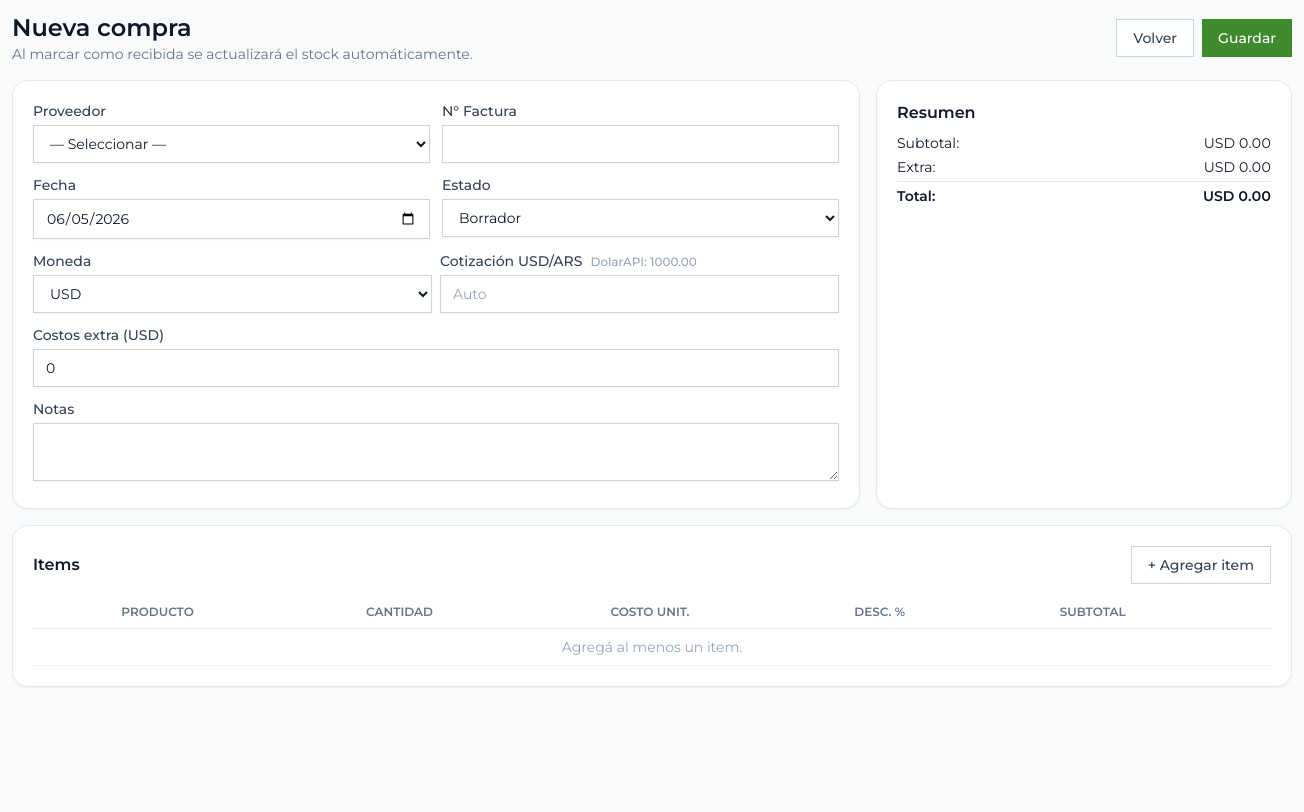
Test: PurchaseFormPage › renders the API error message when the backend rejects the payload
Select "ACME" in the dropdown named "ACME" below "Proveedor": (232, 144) [33,125,430,163]
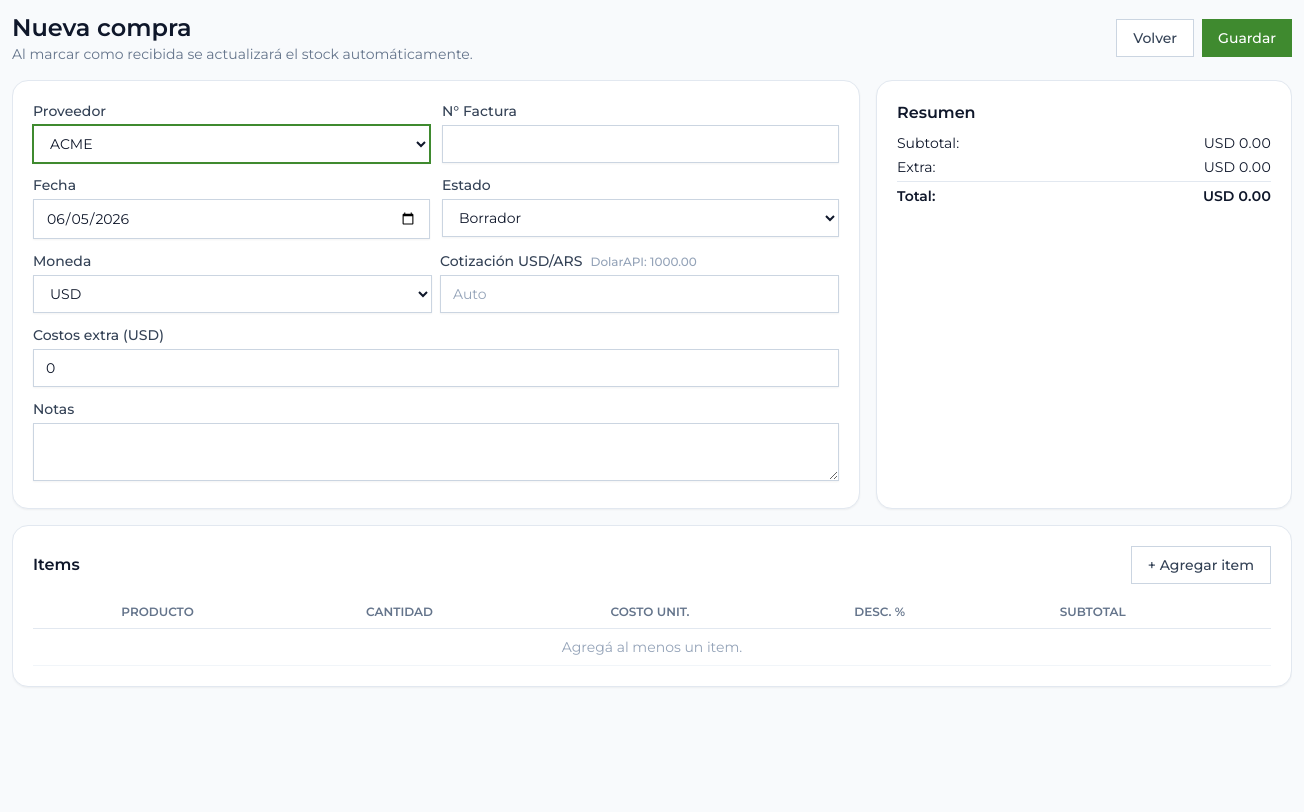
Click the button "+ Agregar item": (1201, 565) [1131,546,1271,584]
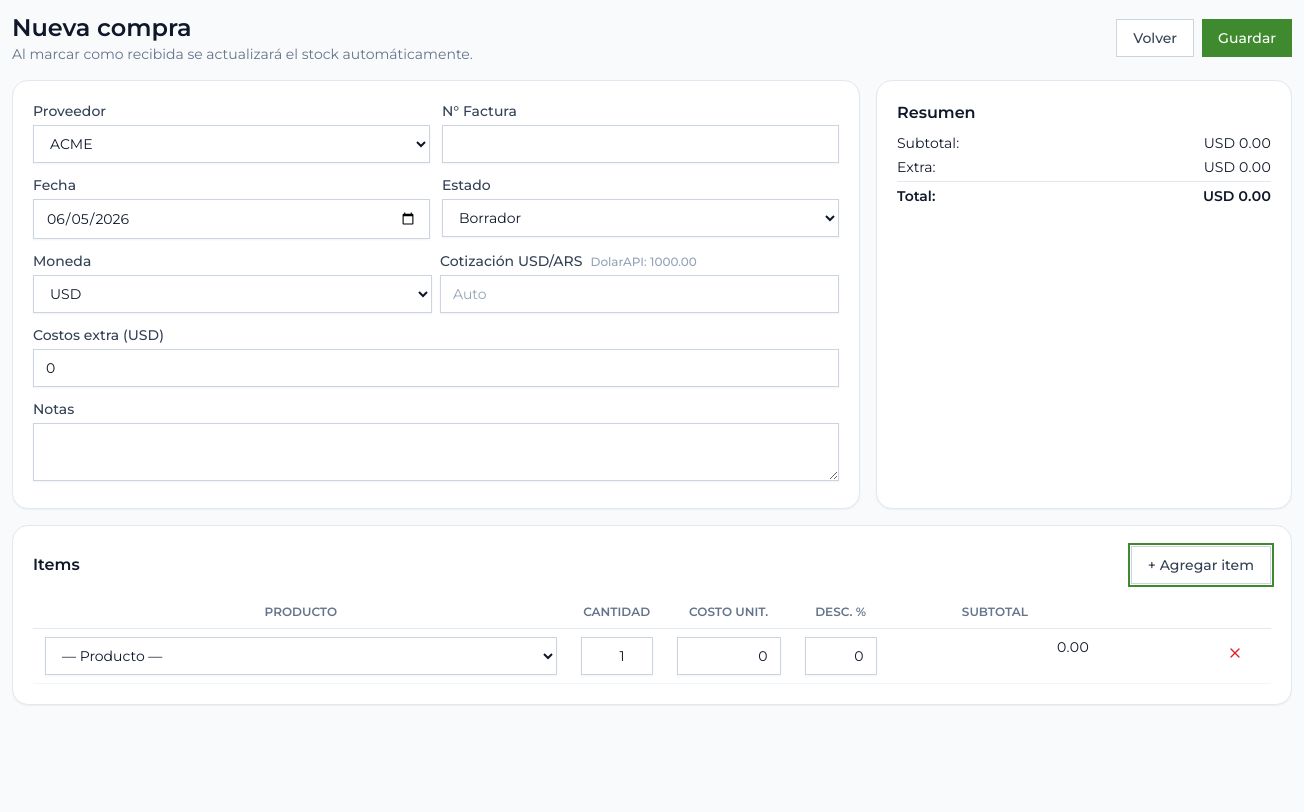
Select "PNL-300 · Panel 300W" in the dropdown named "PNL-300" below "Producto": (301, 656) [45,637,557,675]
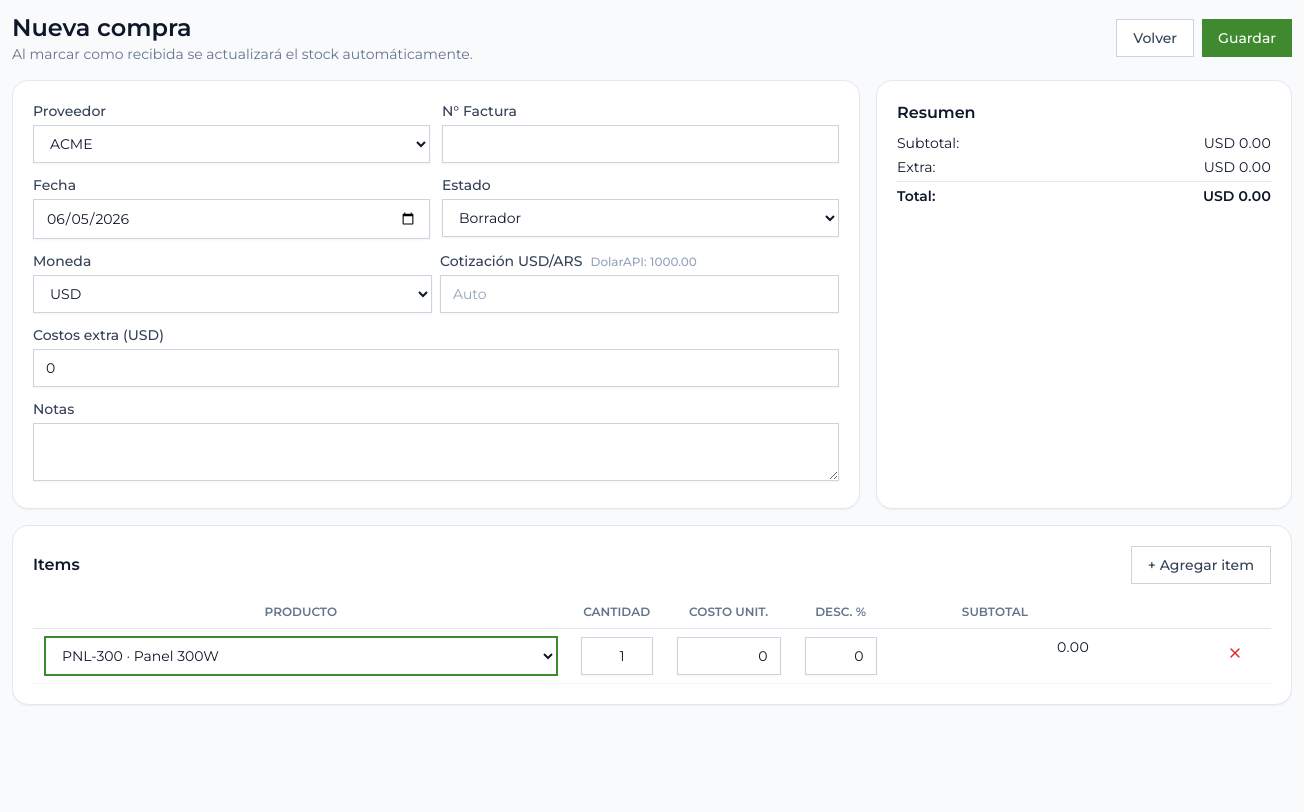
Click the button "Guardar": (1247, 38) [1202,19,1292,57]
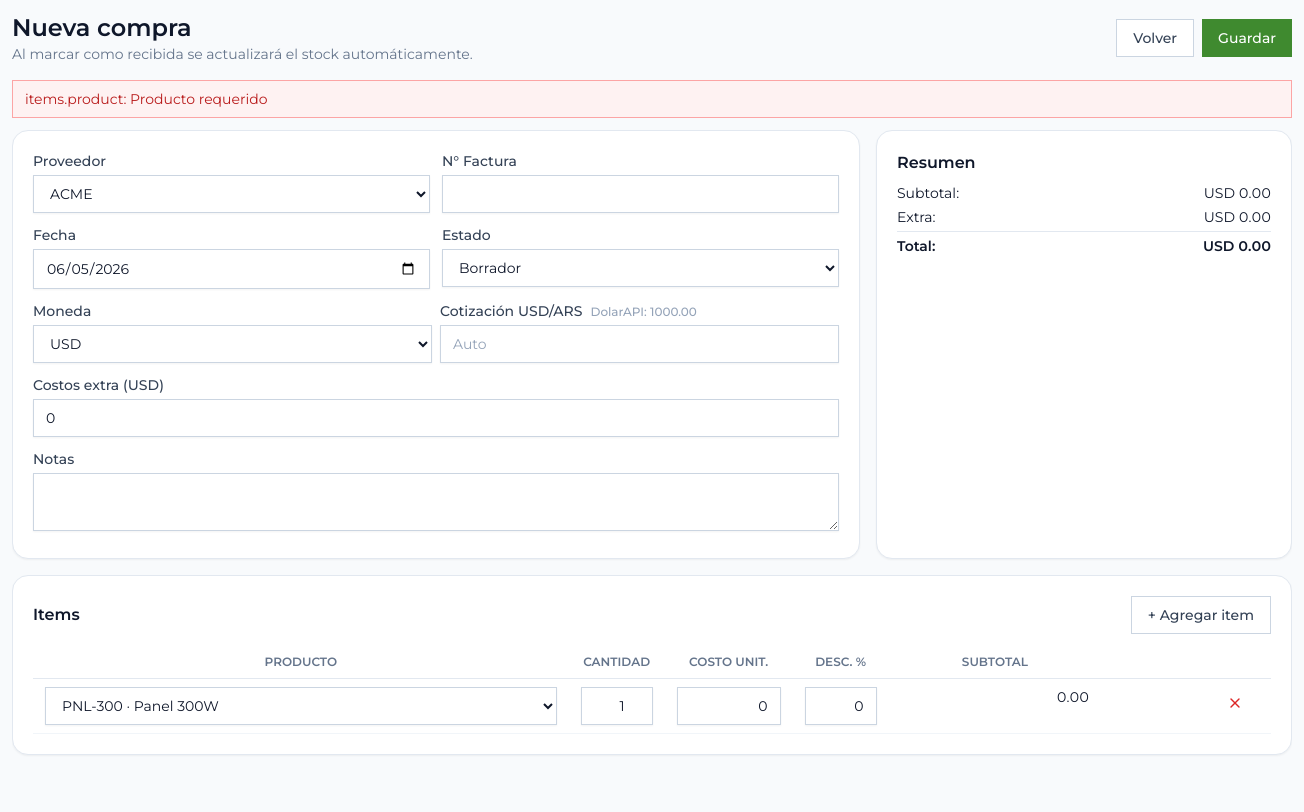
Result: the message shows "Producto requerido" at [25,90,268,108]
